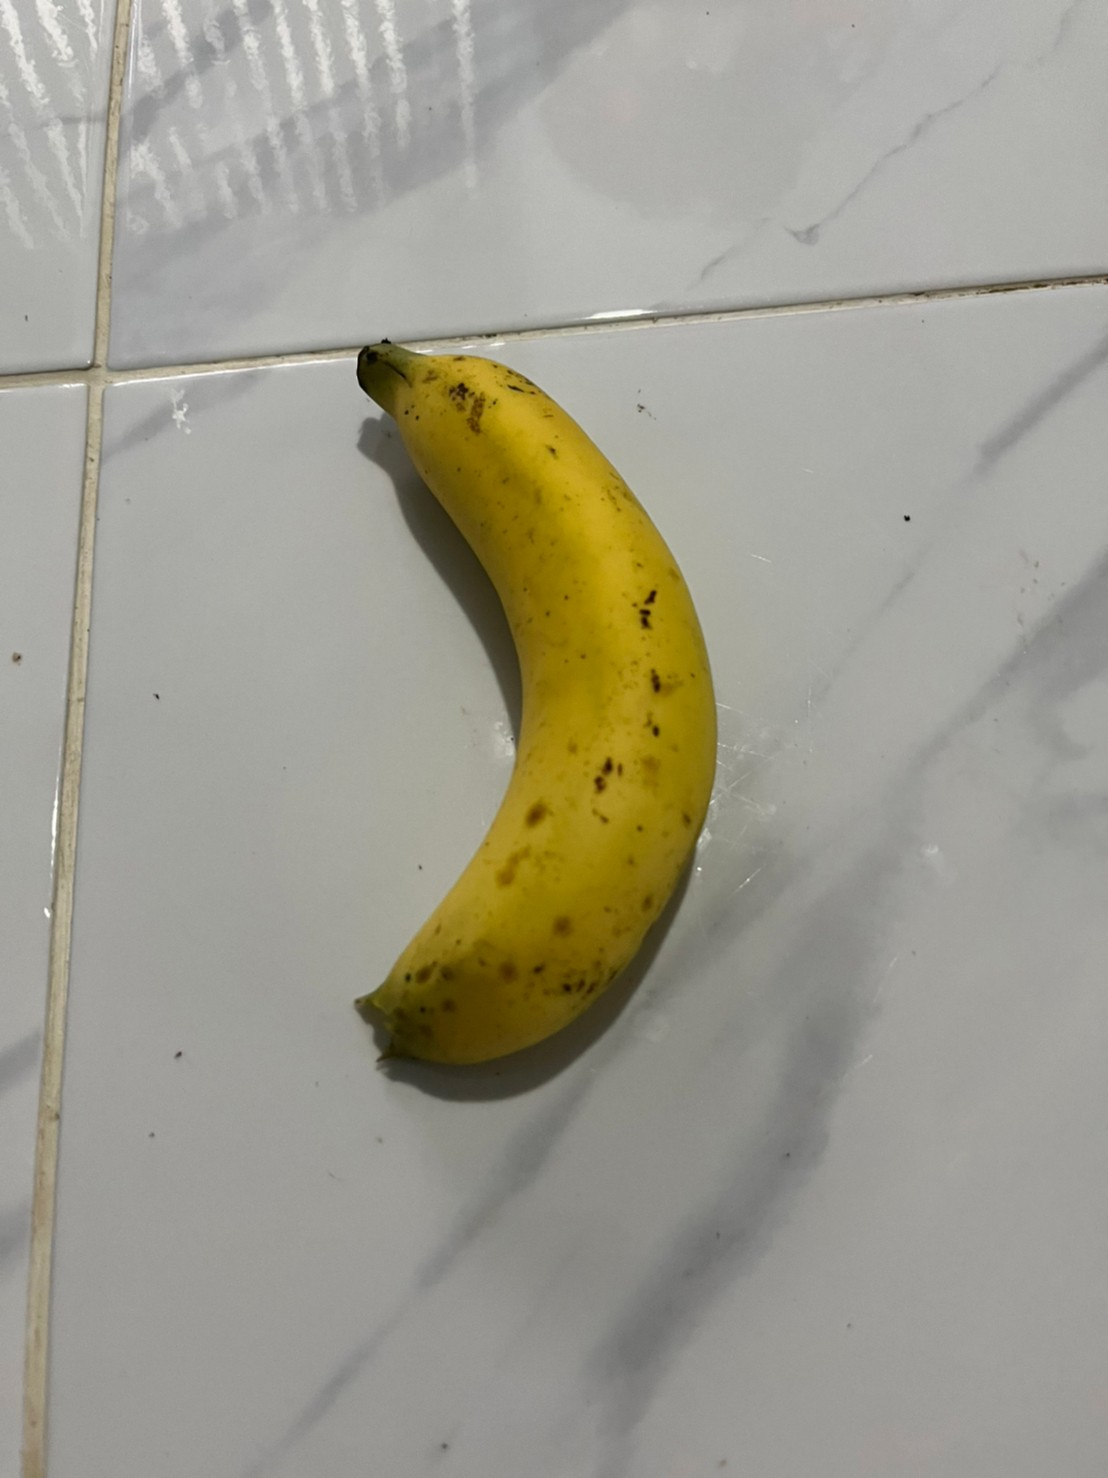banana: (304, 310, 763, 1127)
